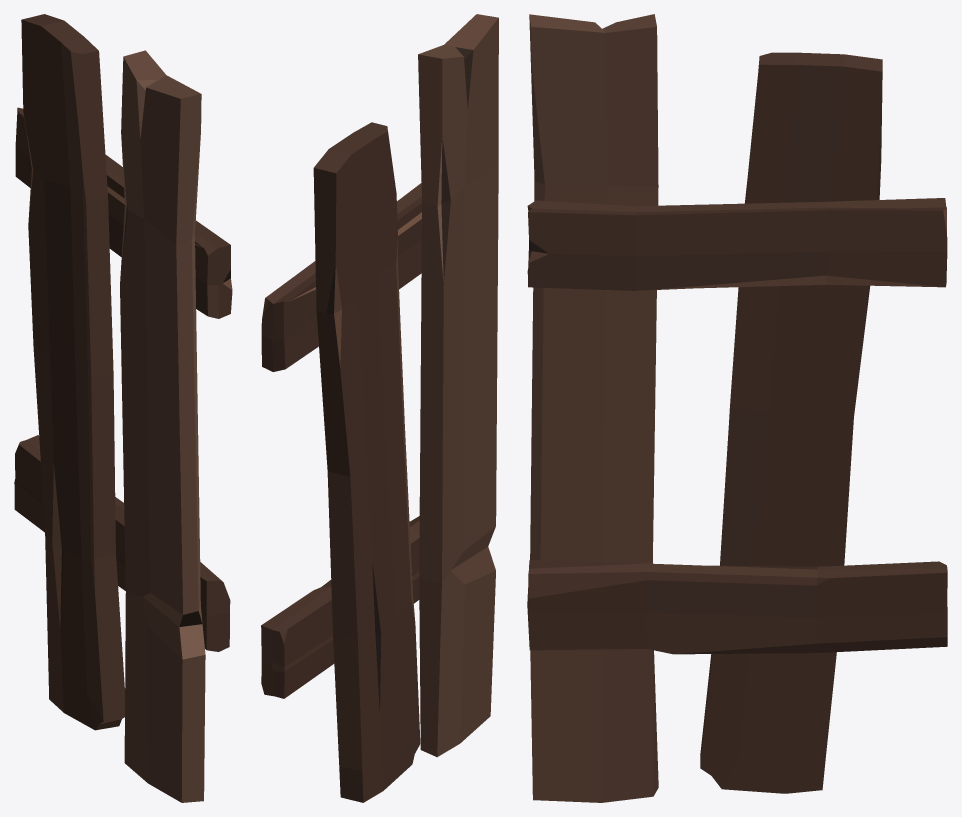
Rendered from FenceWoodSmall_02.glb.
3 renders of one model, left to right at view 1: azimuth 30°, elevation 25°; view 2: azimuth 150°, elevation 25°; view 3: azimuth 270°, elevation 25°, orthographic. The views are drawn at different scales.
Parts seen in each view (by area): view 1: FenceWoodSmall_02; view 2: FenceWoodSmall_02; view 3: FenceWoodSmall_02.
Part boxes in pixels (x1,y1,x2,y2): FenceWoodSmall_02: (14,14,232,802); FenceWoodSmall_02: (261,14,498,802); FenceWoodSmall_02: (527,14,947,802).
Size of what is drawn, in the model's own units: 0.1716 by 2.06 by 1.01.
1 material, 1 textured.
